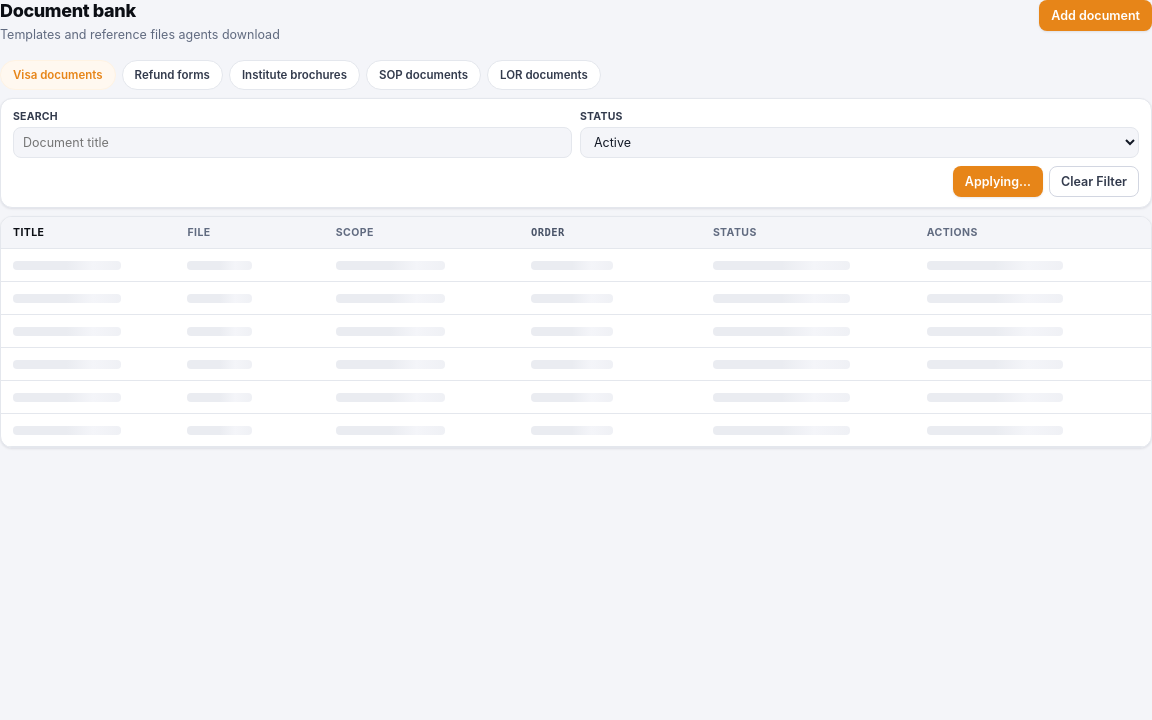
Test: admin resource pages › tells the admin when uploads are not configured instead of failing silently
What coordinates should you click on to do the following:
click the button "Add document"
I would click on:
 (1096, 16)
Its box is [1039,0,1151,31].
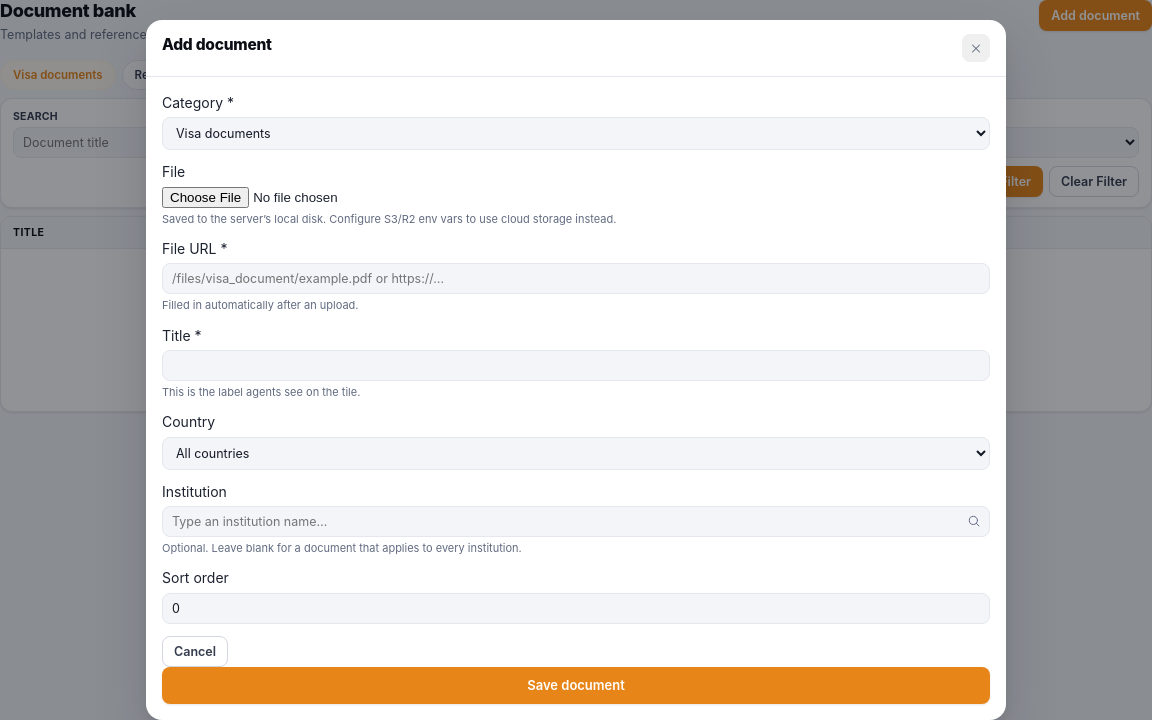
expect the dialog is shown: met
expect the text "local disk" is shown: met, box [162,212,616,226]
expect the file field labelled "File" is shown: met, box [162,187,415,208]
